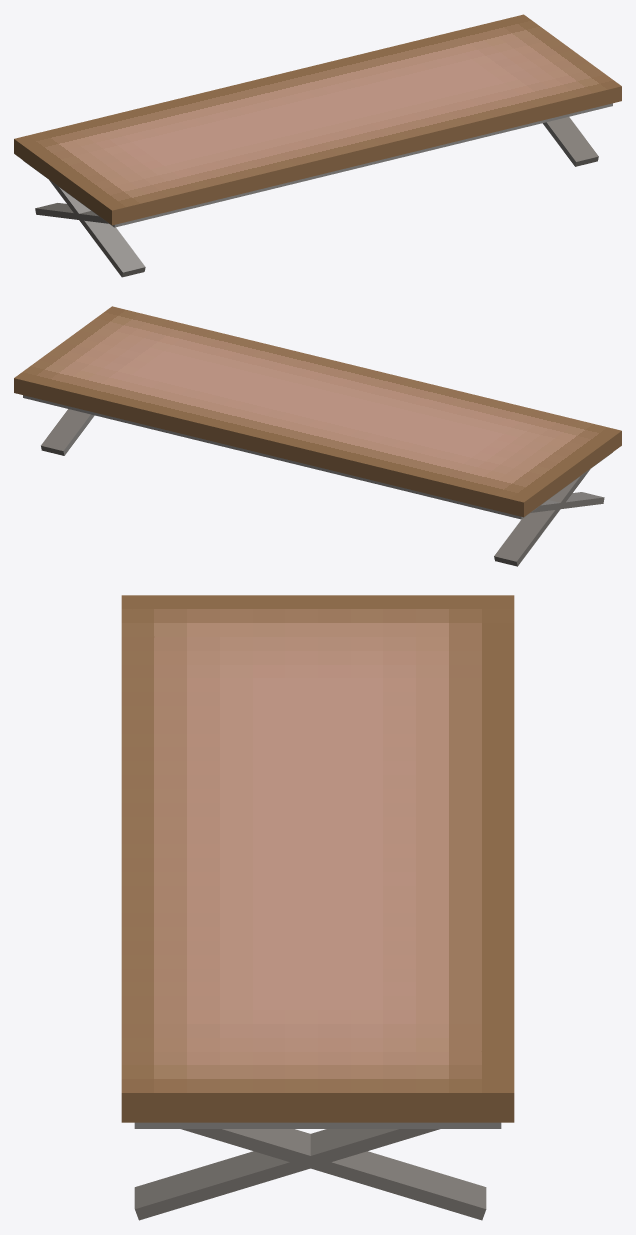
File: Fancy Table.gltf
3 views of the same model, one above another, from view 1: azimuth 30°, elevation 25°; view 2: azimuth 150°, elevation 25°; view 3: azimuth 270°, elevation 25° (orthographic). The views are drawn at different scales.
Visible parts, largest first — view 1: cube (×5); view 2: cube (×5); view 3: cube (×4).
Boxes of the visible parts, <box> form: cube (×5): <box>14,14,621,277</box>; cube (×5): <box>14,306,621,566</box>; cube (×4): <box>121,595,514,1220</box>.
Bounding box in the file's own units: 0.5625 × 0.0774 × 0.1875.
Materials: 1 (1 with a texture image).
